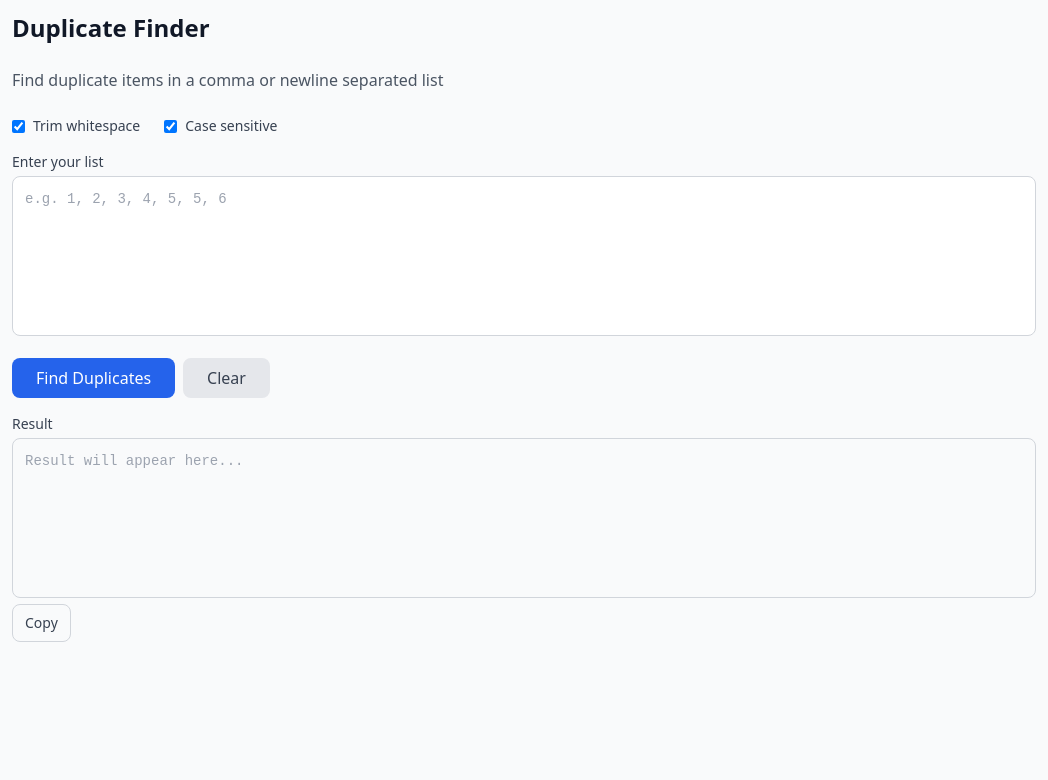
DuplicateFinder › trim whitespace off considers spaced items as different
Type "a, a" into the text box labelled "Enter your list" at x=524, y=256, box [12,176,1036,336]
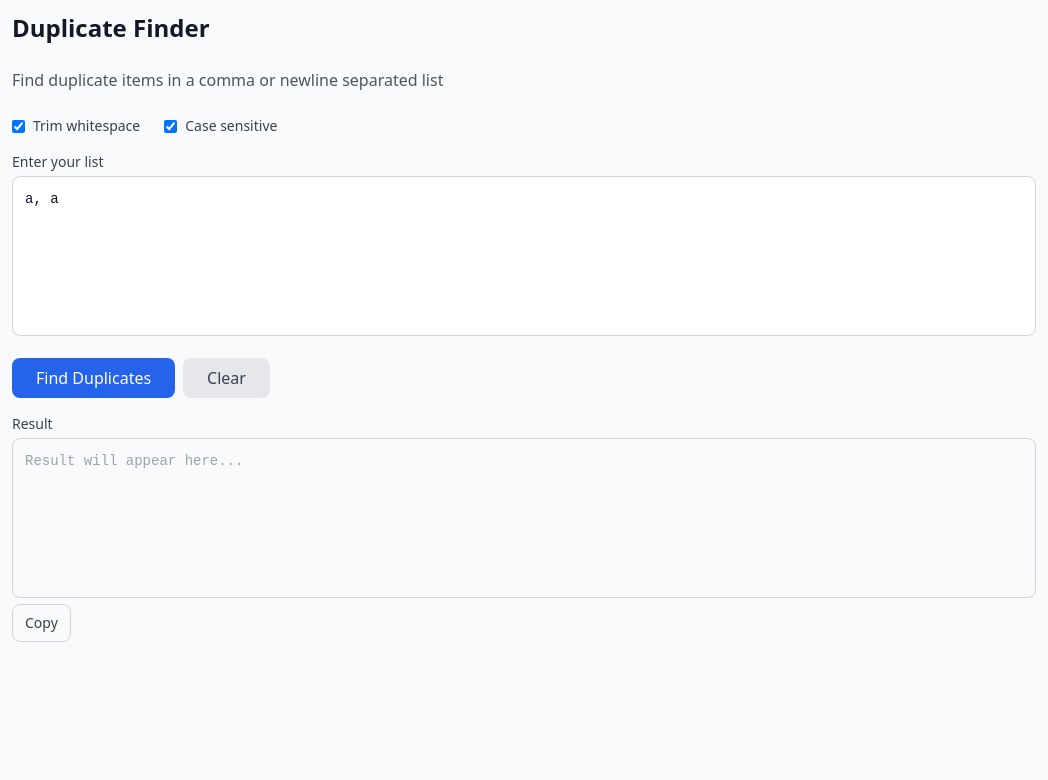
Click the checkbox labelled "Trim whitespace" at x=18, y=126, box [12,120,25,132]
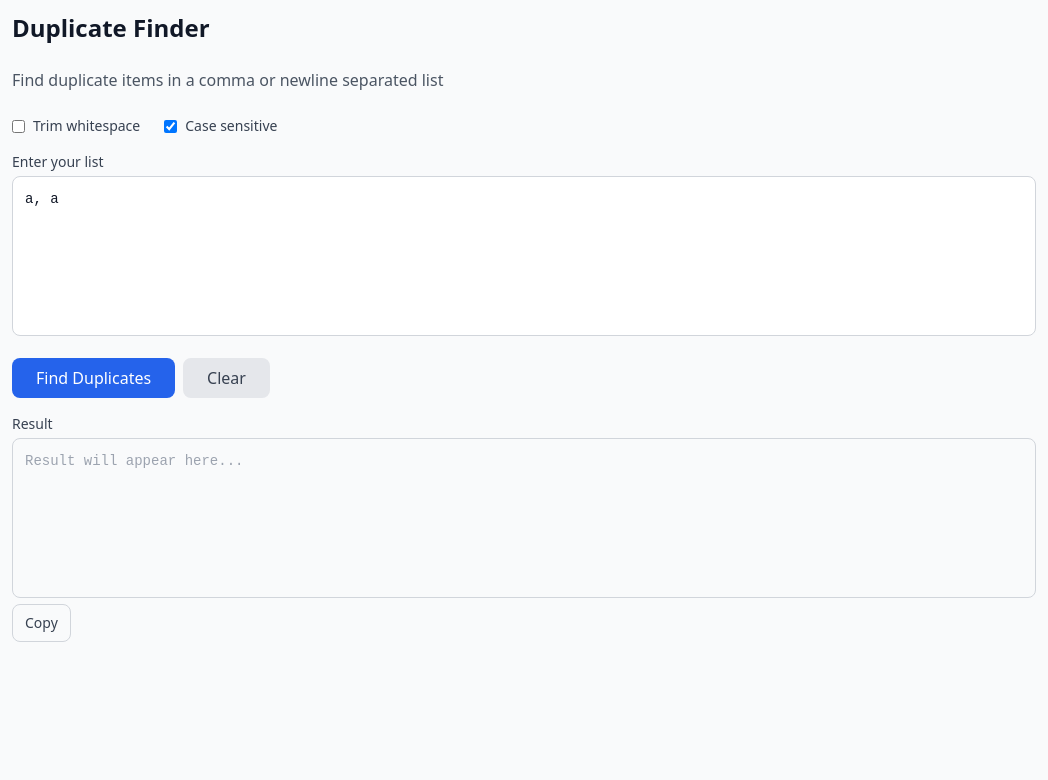
Click the button "Find Duplicates" at x=94, y=378, box [12,358,175,398]
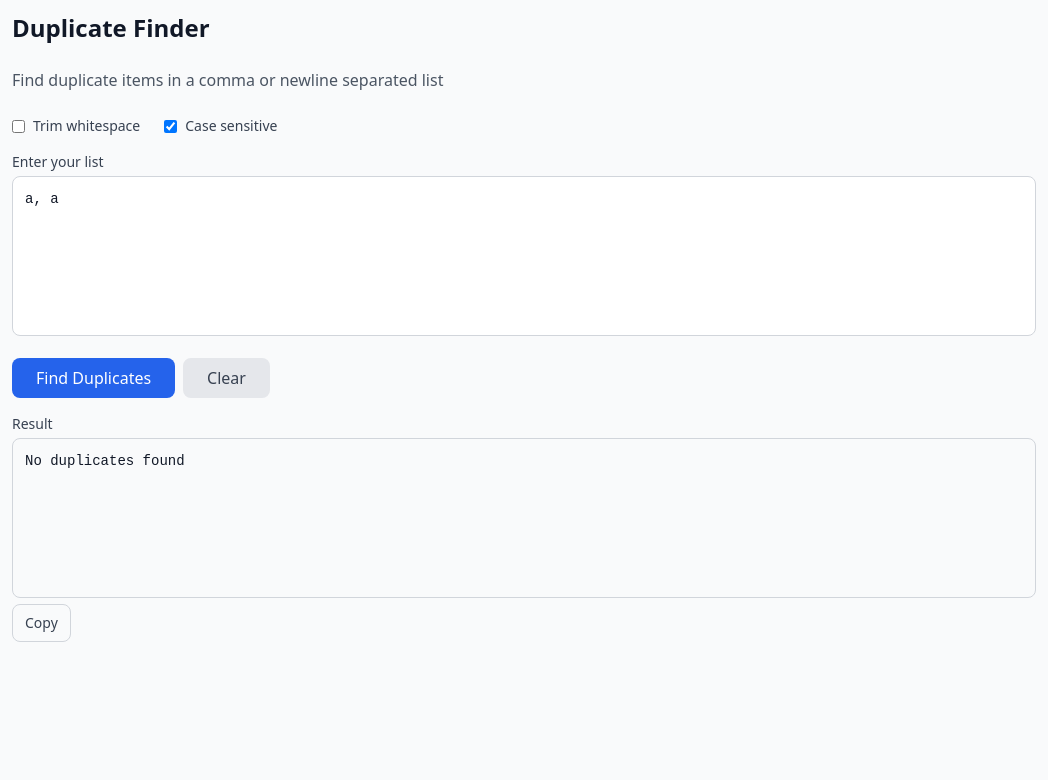
Expected: the text box labelled "Result" holds "No duplicates found", [12,438,1036,598]
